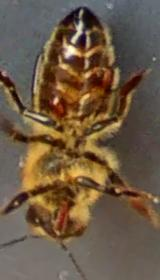varroa_mite: (44, 89, 70, 117), (92, 64, 114, 92)
